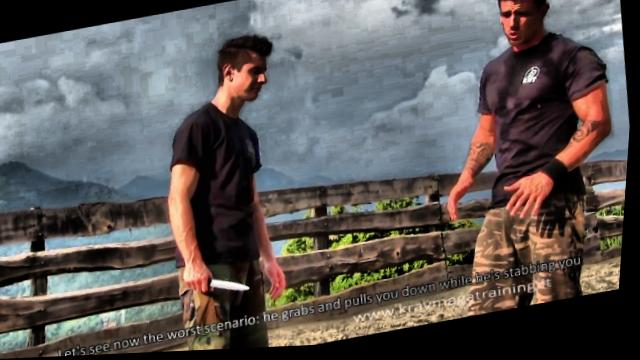knife: (181, 265, 258, 307)
